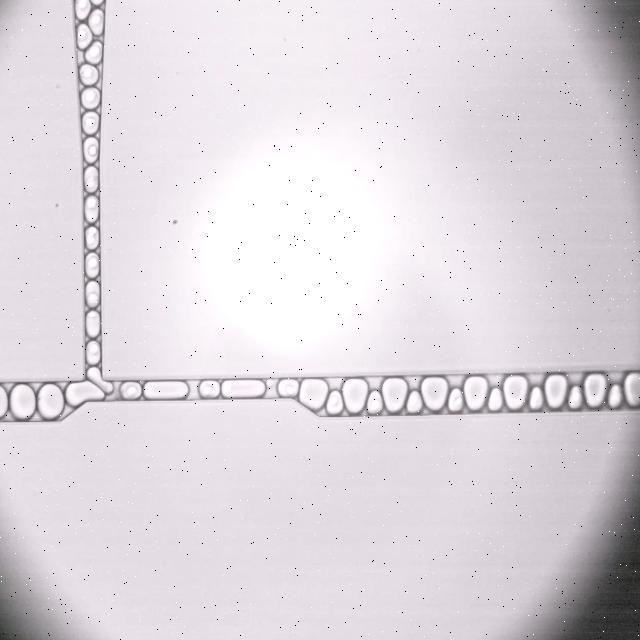L: (86, 367, 113, 393), (277, 379, 299, 398), (80, 64, 99, 85), (85, 41, 102, 64), (83, 137, 98, 163), (85, 281, 100, 307), (81, 88, 100, 108), (199, 380, 220, 398), (77, 24, 92, 49), (82, 112, 99, 134), (487, 388, 503, 411), (84, 166, 98, 192), (86, 310, 100, 336), (121, 381, 141, 399), (367, 391, 382, 415), (327, 392, 343, 414), (85, 195, 98, 222), (85, 253, 99, 278), (89, 10, 103, 34), (449, 388, 463, 412), (608, 384, 622, 408), (407, 391, 421, 414), (86, 342, 100, 364), (529, 387, 543, 409), (568, 387, 582, 409), (76, 0, 91, 20), (85, 227, 98, 249)
S: (299, 379, 328, 411), (67, 381, 104, 406), (342, 378, 367, 413), (421, 378, 448, 410), (10, 384, 35, 418), (38, 384, 63, 418), (382, 378, 407, 412), (464, 376, 488, 410), (144, 381, 188, 399), (504, 375, 527, 409), (584, 373, 607, 407), (222, 380, 265, 398), (545, 374, 567, 408), (624, 373, 640, 404), (0, 386, 7, 417)
